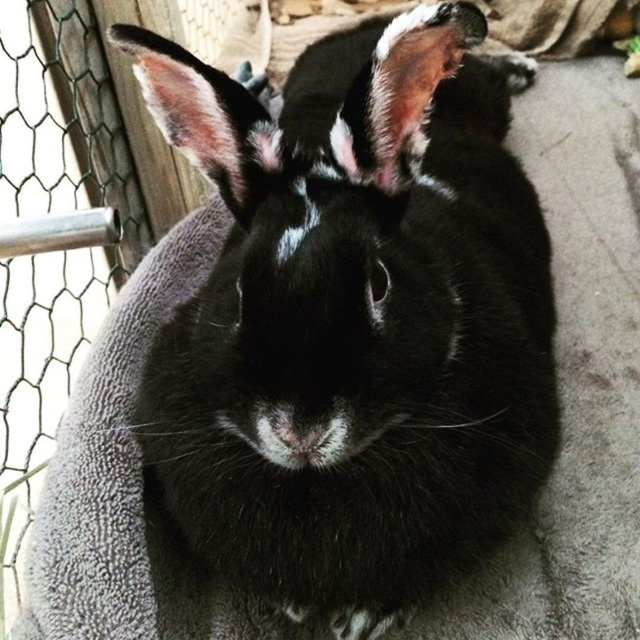Rabbit: (104, 0, 567, 639)
